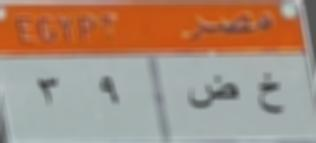3: (31, 72, 63, 111)
9: (96, 73, 125, 110)
daad: (184, 71, 242, 115)
khaa: (252, 68, 288, 121)
